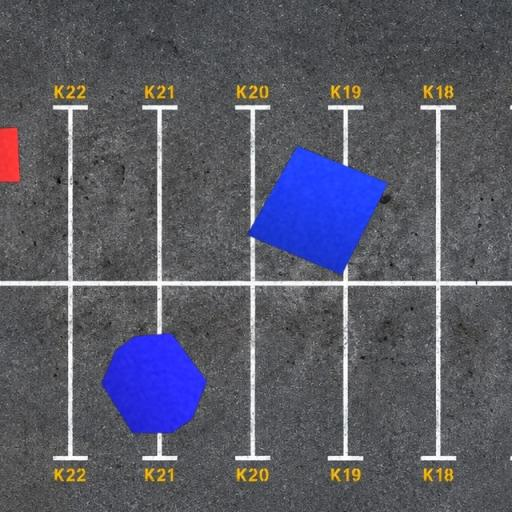BLUE_SQUARE: (246, 145, 389, 276)
